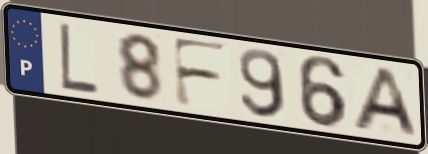6: (295, 54, 351, 131)
8: (113, 31, 167, 103)
9: (236, 47, 288, 121)
A: (348, 66, 423, 141)
F: (169, 35, 231, 111)
L: (57, 19, 102, 97)
